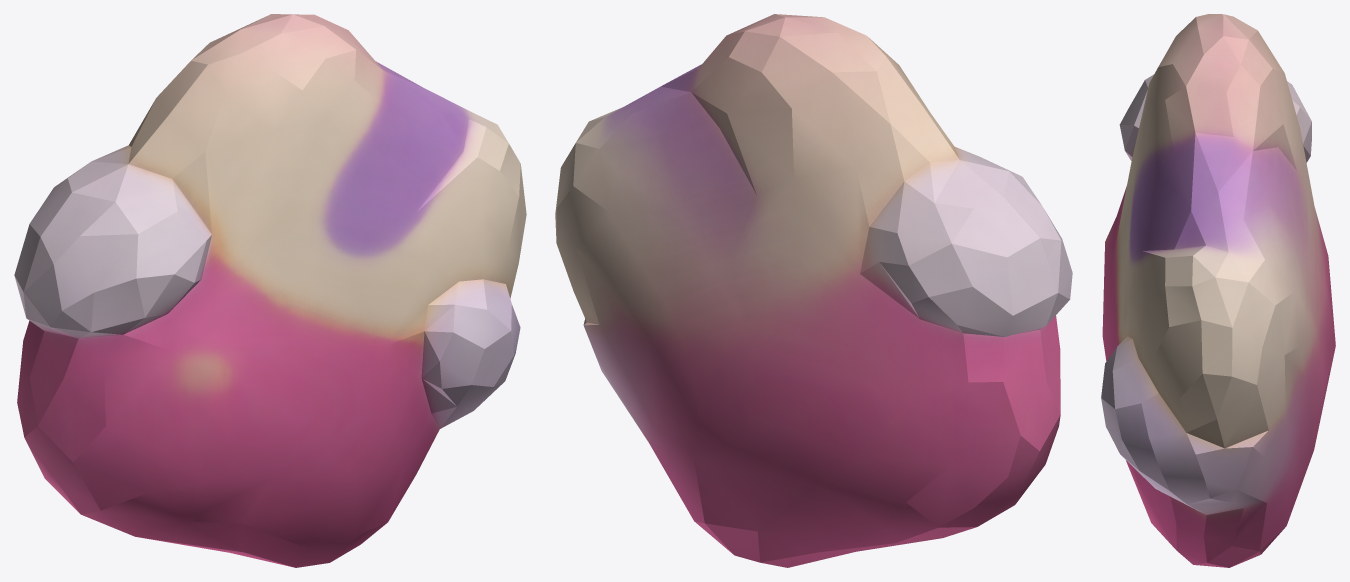
3 renders of one model, left to right at view 1: azimuth 30°, elevation 25°; view 2: azimuth 150°, elevation 25°; view 3: azimuth 270°, elevation 25°, orthographic. The views are drawn at different scales.
Visible parts, largest first — view 1: model; view 2: model; view 3: model.
Part boxes in pixels (<box>): model: <box>14,14,526,567</box>; model: <box>555,14,1072,567</box>; model: <box>1101,14,1335,567</box>.
Bounding box in the file's own units: 179 × 188 × 77.2.
Materials: 1 (1 with a texture image).
